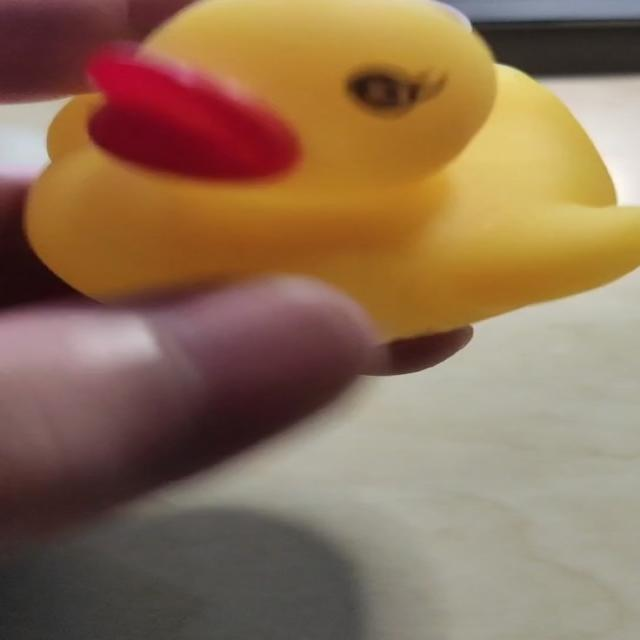rubber-duck: (24, 0, 638, 338)
